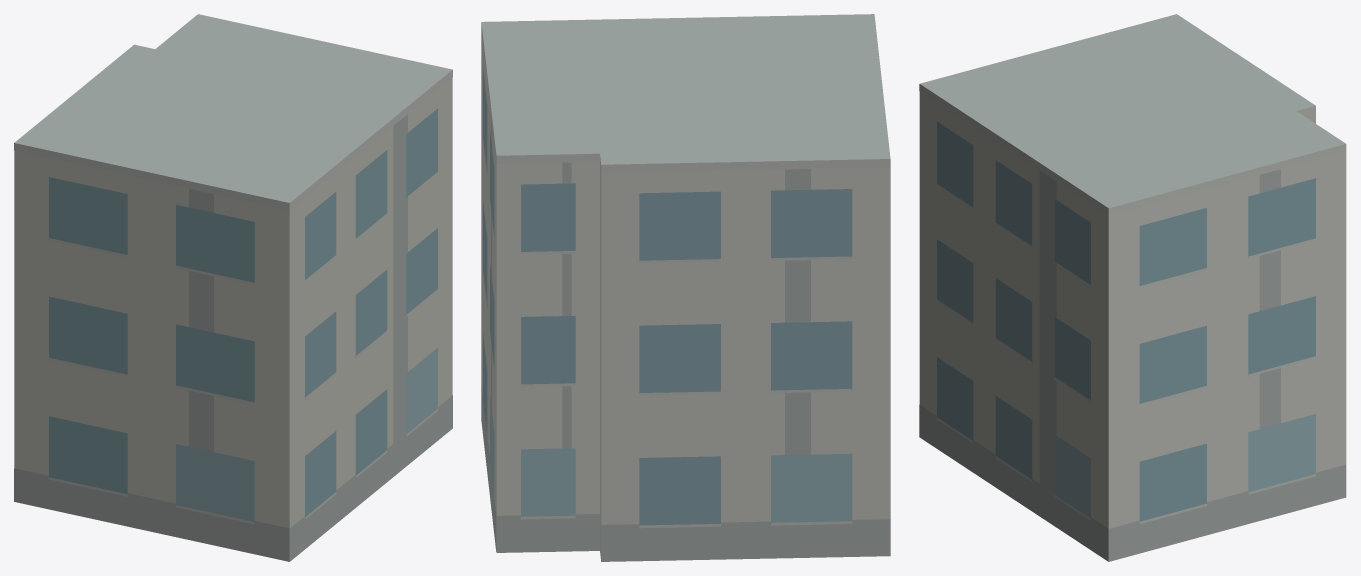
File: residential-2491c4ad-8cc6-4b6a-9dba-7fa98f0fba54.glb
3 views of the same model, side by side, from view 1: azimuth 30°, elevation 25°; view 2: azimuth 150°, elevation 25°; view 3: azimuth 270°, elevation 25° (orthographic). The views are drawn at different scales.
Parts seen in each view (by area): view 1: residential-2491c4ad-8cc6-4b6a-9dba-7fa98f0fba54.tmp; view 2: residential-2491c4ad-8cc6-4b6a-9dba-7fa98f0fba54.tmp; view 3: residential-2491c4ad-8cc6-4b6a-9dba-7fa98f0fba54.tmp.
Boxes of the visible parts, x1,y1,x2,y2 form: residential-2491c4ad-8cc6-4b6a-9dba-7fa98f0fba54.tmp: (14,14,452,561); residential-2491c4ad-8cc6-4b6a-9dba-7fa98f0fba54.tmp: (481,14,890,561); residential-2491c4ad-8cc6-4b6a-9dba-7fa98f0fba54.tmp: (919,14,1346,561).
Bounding box in the file's own units: 13.56 × 11.5 × 12.59.
